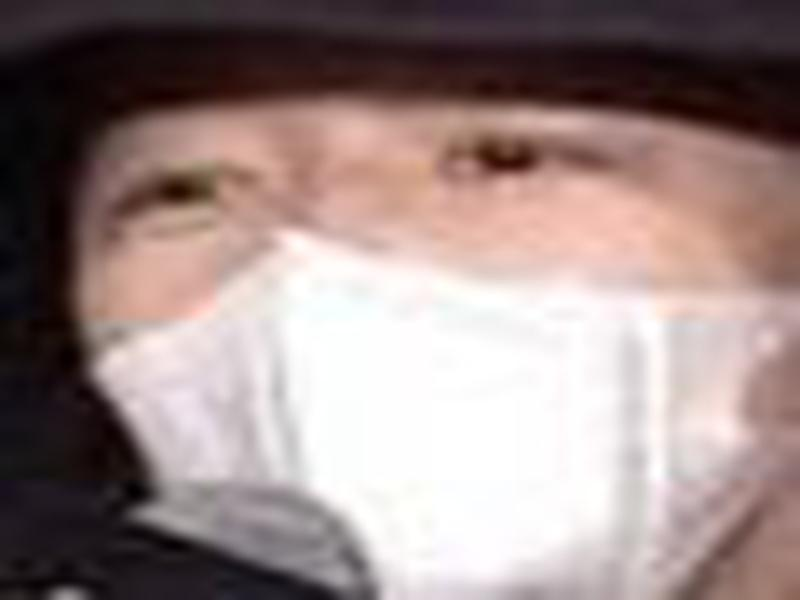with_mask: (59, 95, 799, 600)
